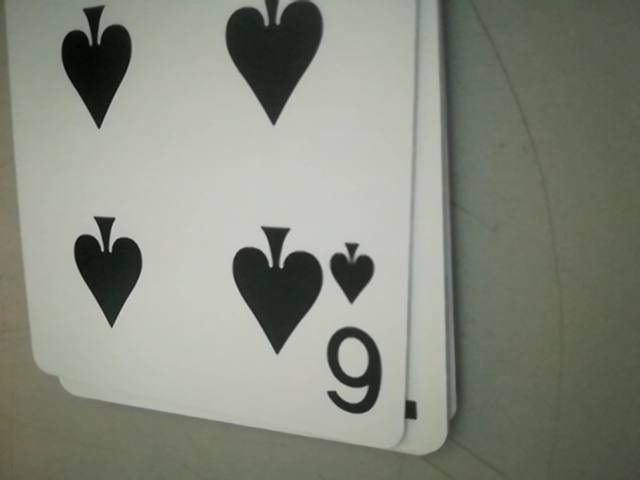ht 6: (322, 236, 392, 427)
